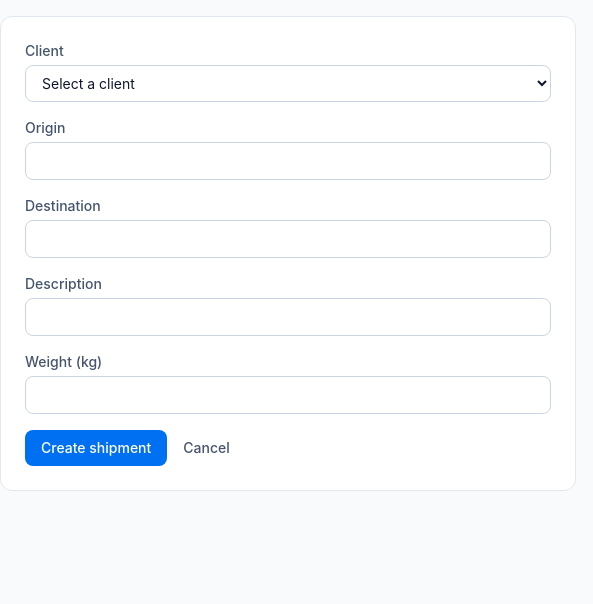
Test: NewShipmentForm › shows the required-field messages on an empty submit and sends nothing
Click the button "Create shipment".
click(96, 448)  # box left=25, top=430, right=167, bottom=466
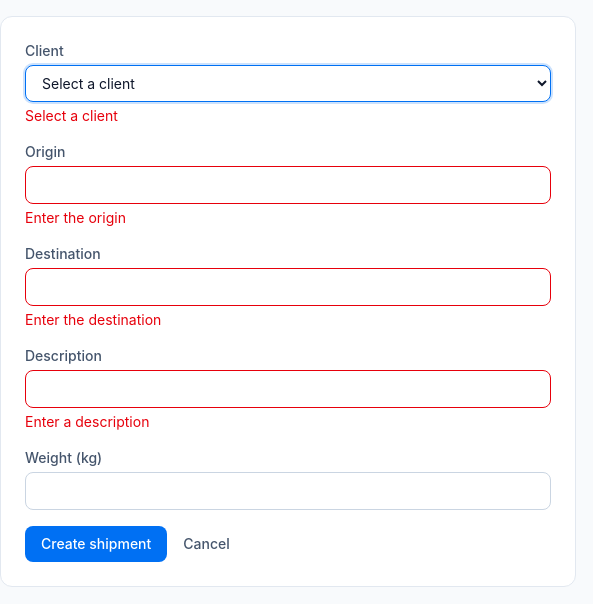
Now the text "Enter the origin" is shown, box left=25, top=209, right=126, bottom=226
